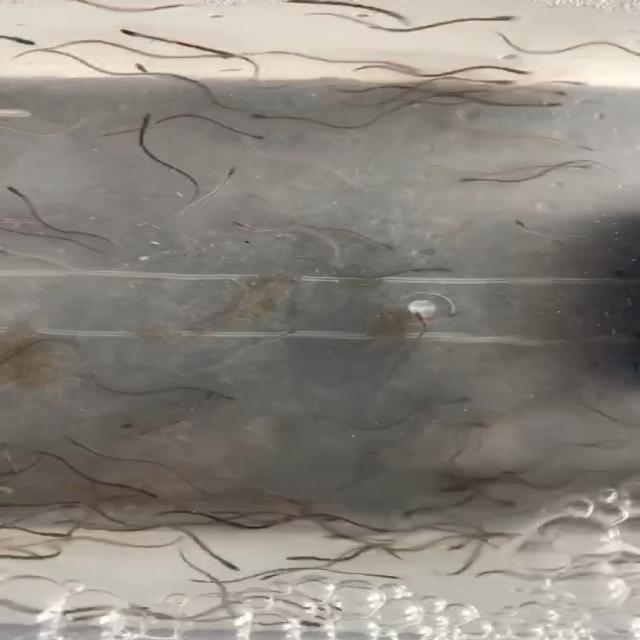active_glass_eel: (409, 259, 457, 277), (275, 616, 328, 630), (270, 325, 305, 346), (454, 85, 503, 99), (0, 179, 40, 195), (210, 382, 242, 402), (59, 432, 99, 448), (108, 23, 150, 38), (434, 542, 482, 555), (34, 526, 70, 543), (440, 480, 478, 496), (487, 7, 524, 23), (280, 490, 311, 509), (116, 418, 152, 434), (486, 74, 530, 87), (508, 215, 541, 232), (446, 388, 474, 408), (217, 560, 252, 576), (551, 6, 588, 21), (220, 163, 252, 180), (282, 550, 318, 565), (456, 414, 485, 432), (560, 160, 596, 173), (452, 64, 481, 80), (406, 305, 430, 324), (454, 172, 489, 185), (532, 97, 569, 109), (132, 485, 166, 498), (550, 76, 594, 86), (125, 61, 164, 72), (10, 33, 38, 48), (271, 566, 307, 577), (244, 110, 277, 122), (537, 87, 571, 98), (367, 237, 395, 250), (233, 220, 259, 233), (509, 65, 536, 77), (235, 130, 267, 140), (136, 110, 163, 121)
